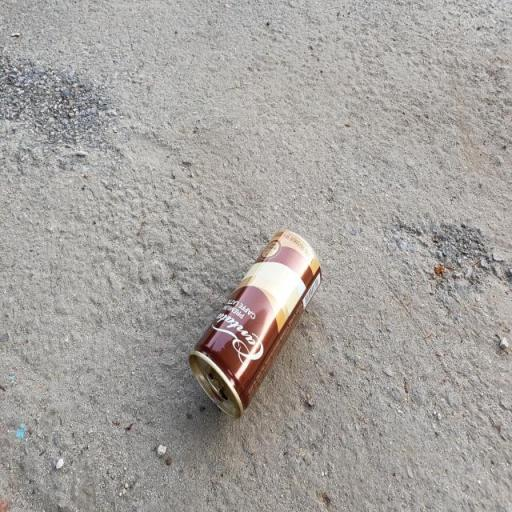metal: (182, 190, 342, 444)
